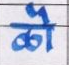au_matra: (29, 4, 57, 49)
